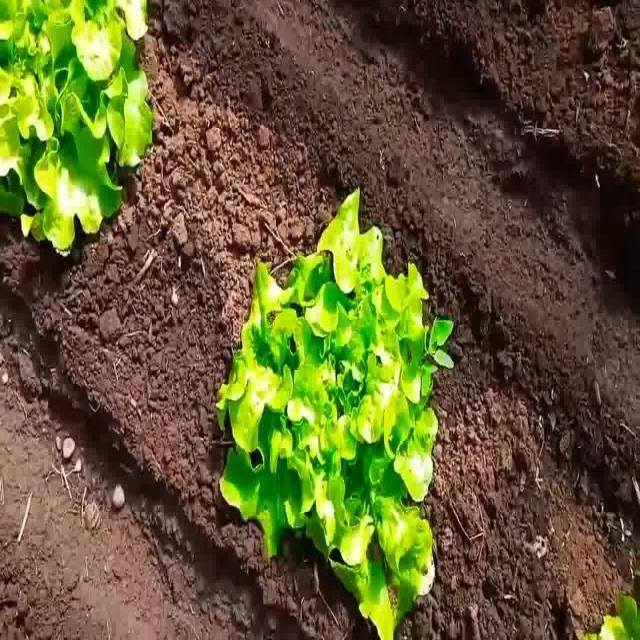Lettuce: (209, 187, 452, 627), (0, 0, 160, 256)
